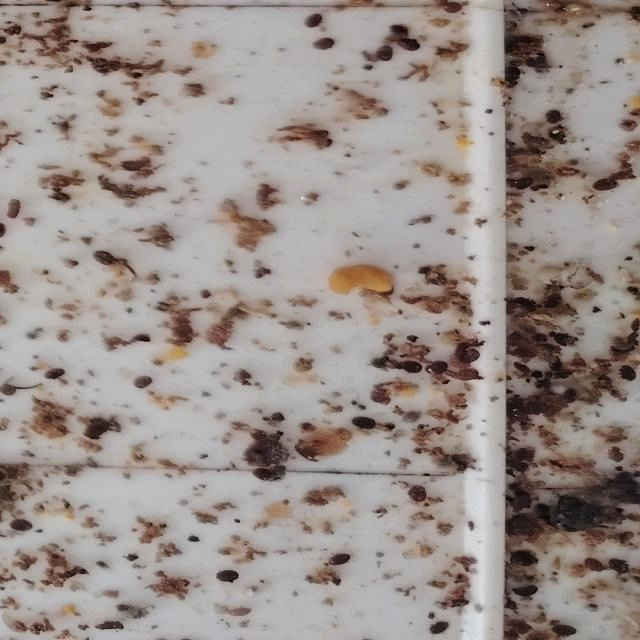varroa: (511, 549, 535, 567), (92, 251, 116, 268), (251, 469, 280, 483), (350, 417, 374, 432), (591, 179, 618, 192), (396, 38, 419, 53), (607, 559, 630, 574), (424, 362, 448, 376), (583, 558, 604, 574), (407, 485, 425, 503), (388, 25, 409, 40), (310, 38, 334, 51), (511, 586, 537, 598), (8, 520, 32, 533), (426, 622, 448, 636), (130, 376, 152, 390), (501, 67, 520, 83), (513, 176, 533, 191), (214, 571, 237, 584), (374, 46, 391, 63), (328, 554, 350, 567), (302, 14, 321, 29), (541, 296, 561, 310), (457, 350, 477, 364), (399, 362, 420, 375), (618, 367, 635, 383), (42, 369, 62, 381), (543, 111, 560, 125), (561, 388, 575, 404)
